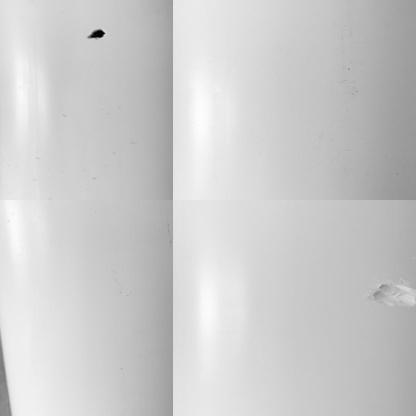kongdong: (87, 28, 107, 39)
sunshang: (368, 279, 416, 314)
